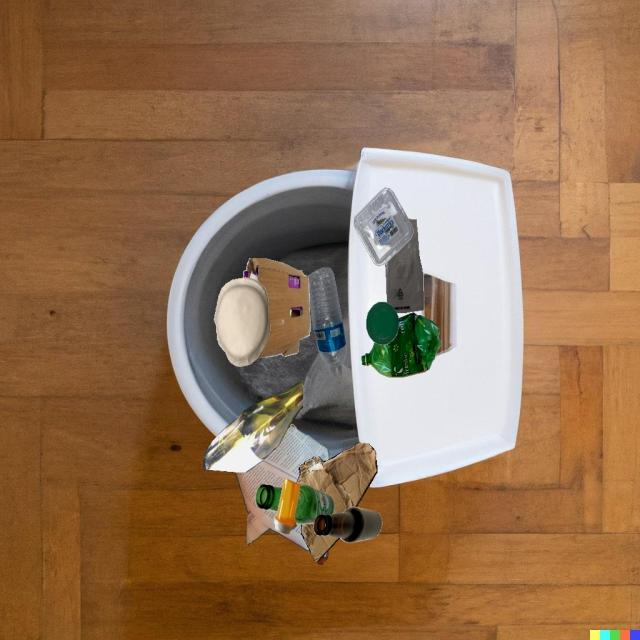biowaste: (315, 550, 329, 565)
cardboard: (243, 258, 311, 359), (296, 442, 377, 514)
glass: (203, 381, 303, 472), (313, 507, 382, 543), (294, 484, 335, 524), (255, 484, 282, 512)
paper: (235, 425, 330, 551), (214, 277, 270, 367), (290, 423, 298, 430)
plastic: (361, 312, 441, 377), (354, 188, 413, 266), (307, 268, 346, 377), (385, 219, 424, 313), (274, 478, 300, 534), (366, 302, 399, 345)
